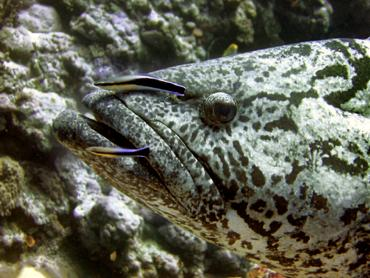Serranidae -Groupers-: (51, 20, 370, 278)
